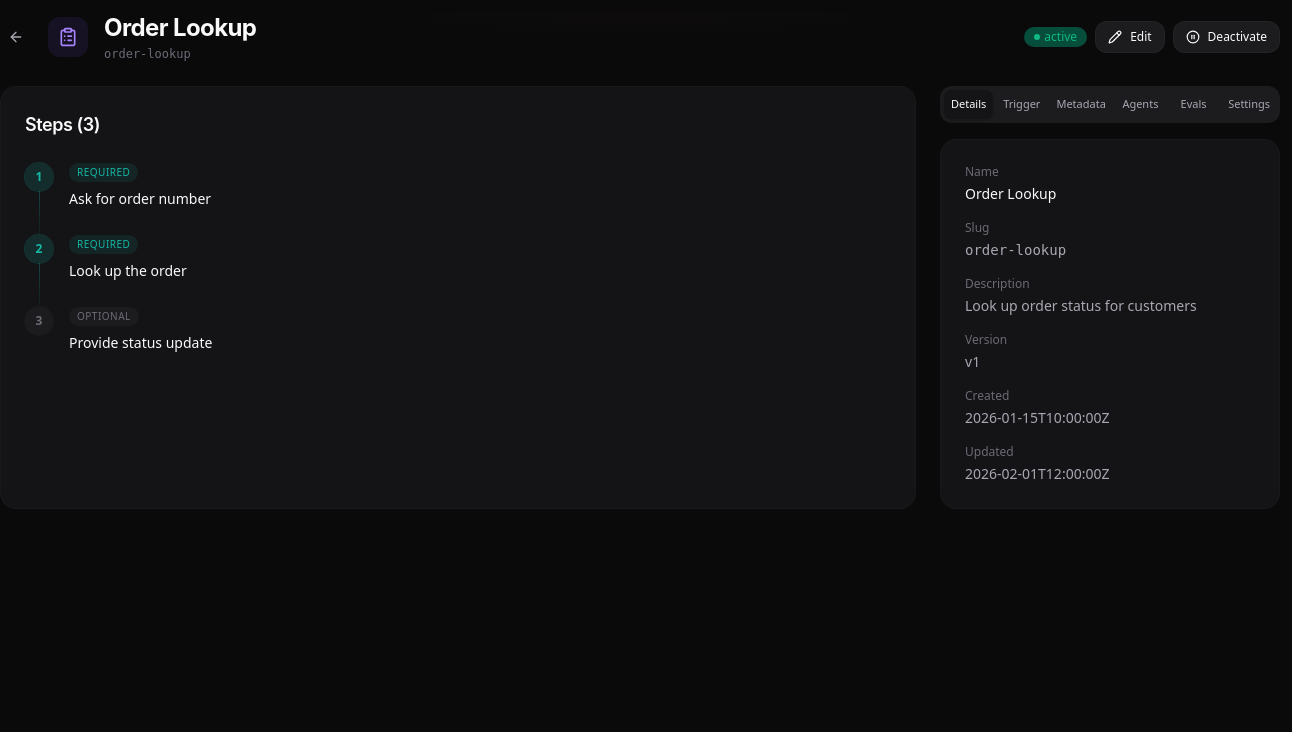
SopDetailPage › status action buttons › shows Archive in Settings tab for active SOPs
Click the button "Settings": (1249, 104) [1222,90,1276,118]
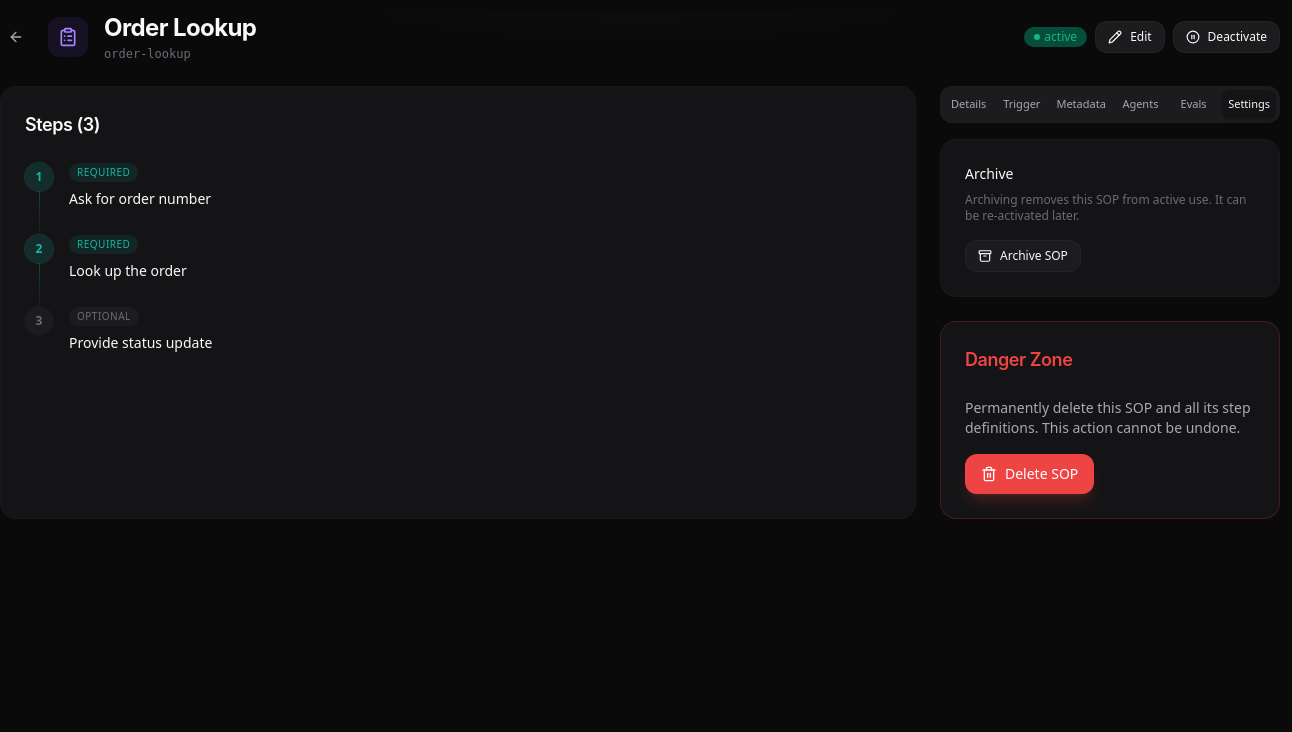
Expected: the button "Archive SOP" is shown, [965,240,1081,272]
